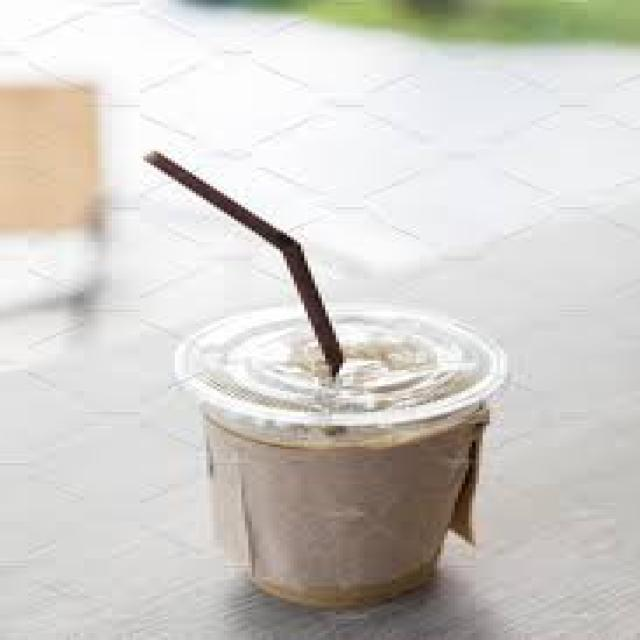bottle: (207, 409, 484, 607)
